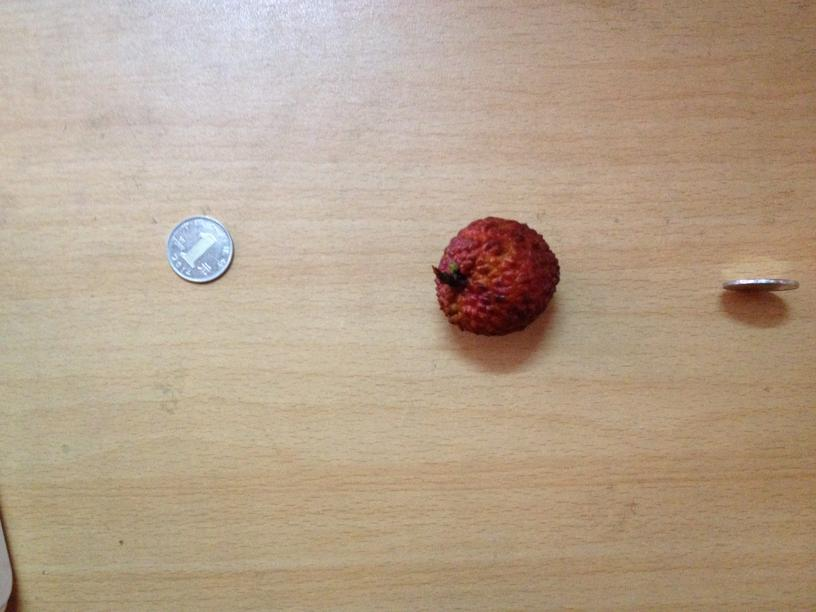coin: (168, 218, 233, 284)
litchi: (429, 214, 560, 338)
